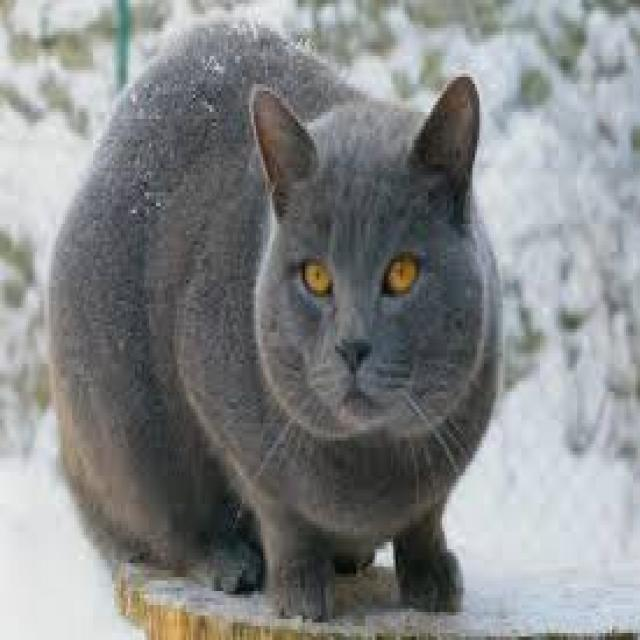Cat: (45, 16, 512, 628)
